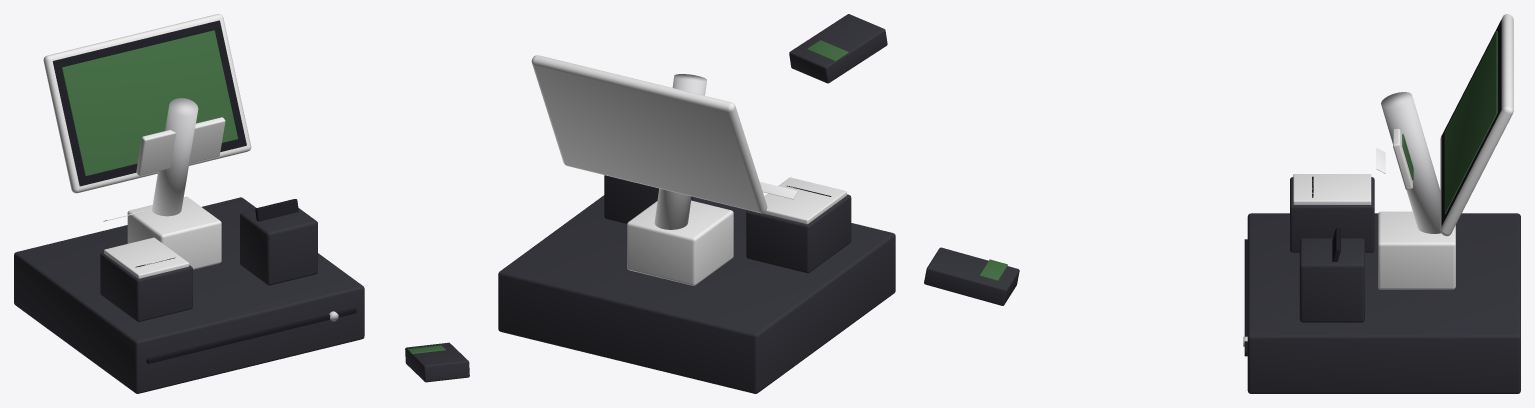
The model's file is cash_register.fbx.
The picture shows the model from 3 angles, left to right: view 1: azimuth 30°, elevation 25°; view 2: azimuth 150°, elevation 25°; view 3: azimuth 270°, elevation 25°; orthographic projection. The views are drawn at different scales.
Parts seen in each view (by area): view 1: POS_CashDrawer, POS_TabletDisplay, POS_Scanner, POS_TabletGlass, POS_StandBase, POS_Printer, POS_TabletBack, POS_StandArm, POS_CustBack, POS_PrinterLid, POS_CardTerminal, POS_DrawerSeam (+1 smaller); view 2: POS_CashDrawer, POS_TabletBack, POS_StandBase, POS_Printer, POS_CardTerminal, POS_PrinterLid, POS_Scanner, POS_StandArm, POS_TermScreen, POS_PrinterPaper; view 3: POS_CashDrawer, POS_Scanner, POS_StandBase, POS_TabletDisplay, POS_StandArm, POS_Printer, POS_CardTerminal, POS_TabletBack, POS_PrinterLid, POS_TabletGlass, POS_CustBack.
Part boxes in pixels (left/top/right/bottom): POS_CashDrawer: left=14, top=197, right=364, bottom=393; POS_TabletDisplay: left=62, top=30, right=238, bottom=176; POS_Scanner: left=240, top=208, right=317, bottom=285; POS_TabletGlass: left=52, top=20, right=246, bottom=186; POS_StandBase: left=127, top=196, right=221, bottom=269; POS_Printer: left=100, top=252, right=192, bottom=321; POS_TabletBack: left=43, top=14, right=251, bottom=193; POS_StandArm: left=152, top=98, right=198, bottom=216; POS_CustBack: left=136, top=117, right=225, bottom=175; POS_PrinterLid: left=104, top=237, right=189, bottom=278; POS_CardTerminal: left=405, top=342, right=469, bottom=382; POS_DrawerSeam: left=146, top=308, right=356, bottom=363; POS_CashDrawer: left=498, top=195, right=895, bottom=393; POS_TabletBack: left=531, top=55, right=767, bottom=213; POS_StandBase: left=627, top=200, right=733, bottom=285; POS_Printer: left=746, top=194, right=851, bottom=273; POS_CardTerminal: left=789, top=14, right=887, bottom=83; POS_PrinterLid: left=763, top=177, right=846, bottom=224; POS_Scanner: left=604, top=175, right=692, bottom=223; POS_StandArm: left=654, top=74, right=706, bottom=229; POS_TermScreen: left=807, top=40, right=848, bottom=61; POS_PrinterPaper: left=759, top=182, right=797, bottom=199; POS_CashDrawer: left=1247, top=213, right=1520, bottom=393; POS_Scanner: left=1299, top=238, right=1364, bottom=322; POS_StandBase: left=1378, top=211, right=1455, bottom=289; POS_TabletDisplay: left=1444, top=31, right=1497, bottom=214; POS_StandArm: left=1381, top=92, right=1440, bottom=233; POS_Printer: left=1290, top=177, right=1374, bottom=252; POS_CardTerminal: left=924, top=247, right=1019, bottom=305; POS_TabletBack: left=1440, top=14, right=1513, bottom=236; POS_PrinterLid: left=1293, top=174, right=1371, bottom=204; POS_TabletGlass: left=1441, top=20, right=1501, bottom=225; POS_CustBack: left=1393, top=129, right=1412, bottom=190.
Size of the model in its own units: 45 by 46.78 by 91.77.
